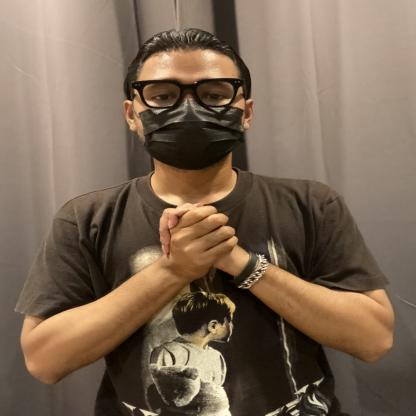Grieve: (91, 190, 329, 292)
